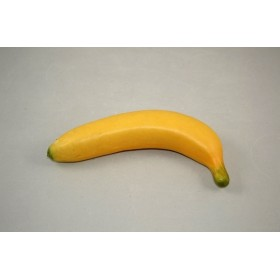looks_good: (39, 90, 242, 202)
